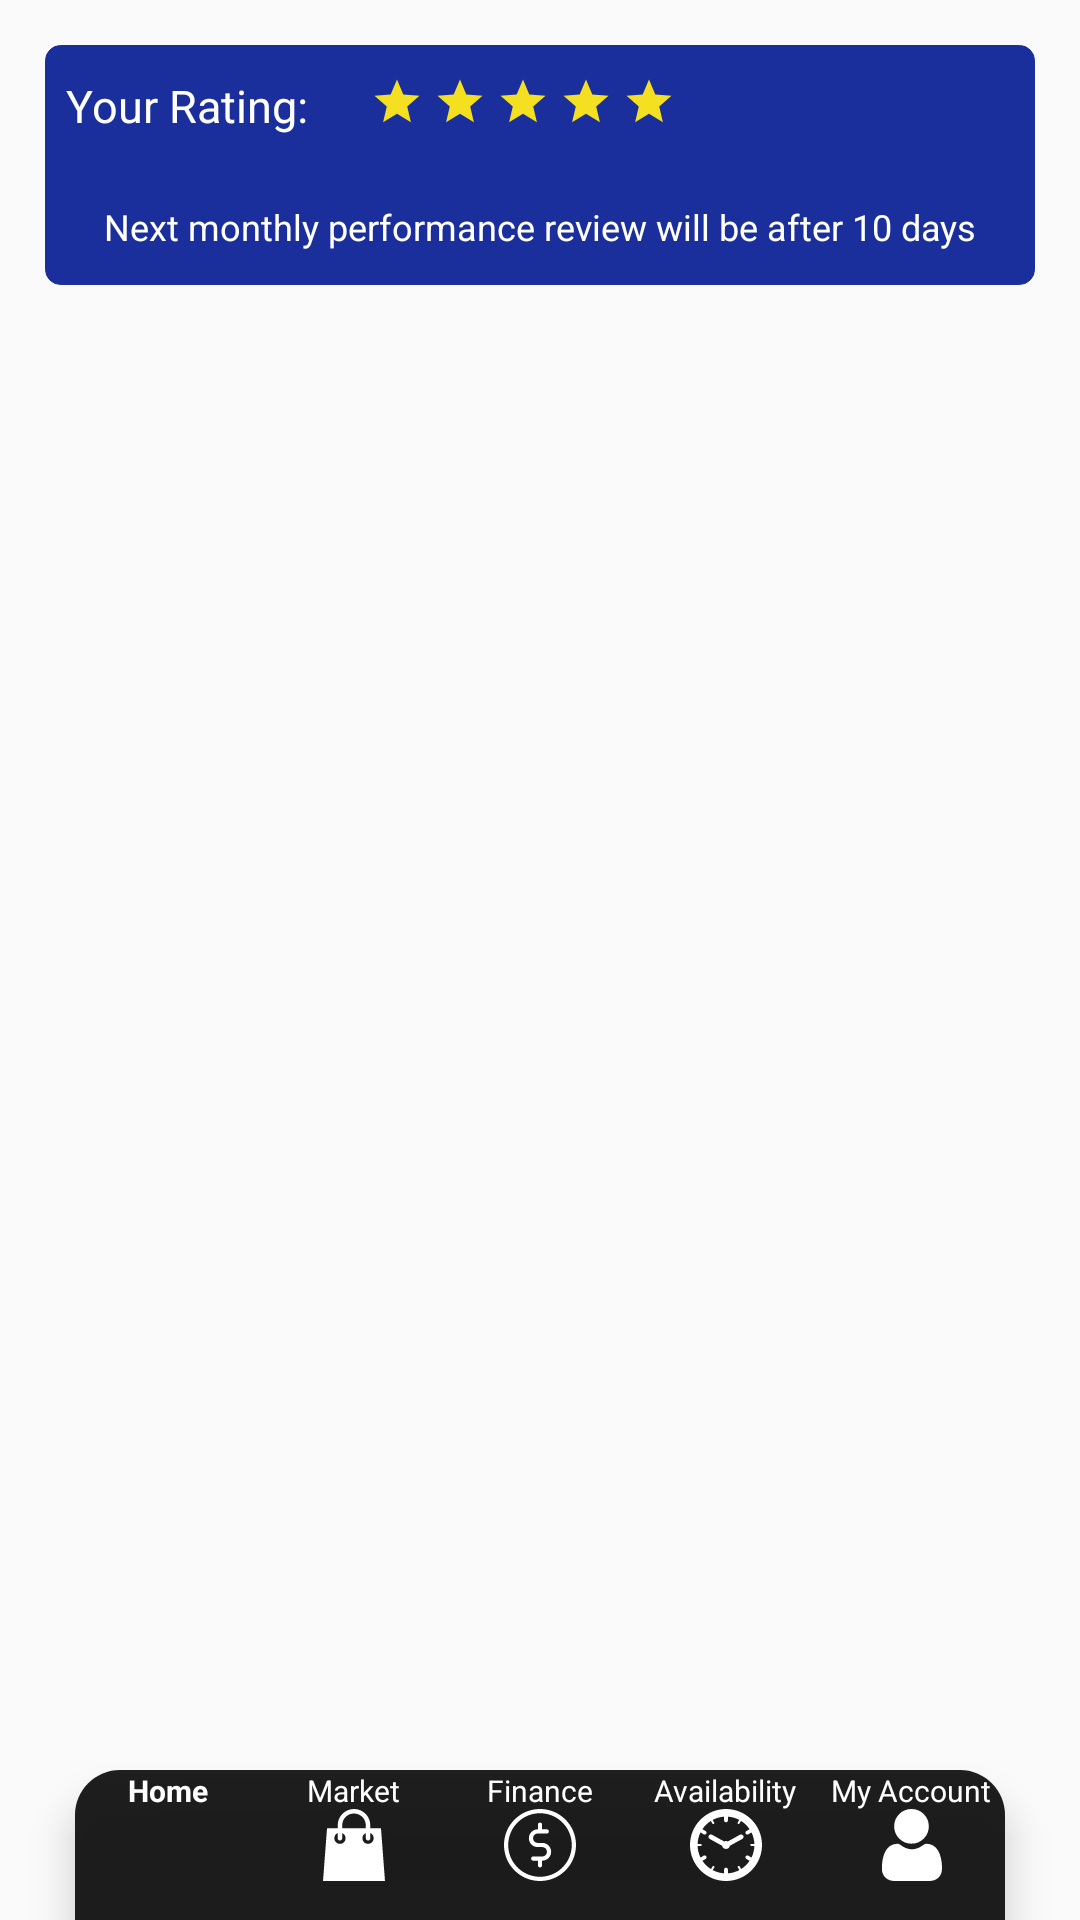

Icons on this 1080px x 1920px Android screen, each with its box as (x1, y1, x2, y2):
star gold: (375, 80, 419, 122), (438, 80, 482, 122), (501, 80, 545, 122), (564, 80, 608, 122), (627, 80, 671, 122)
